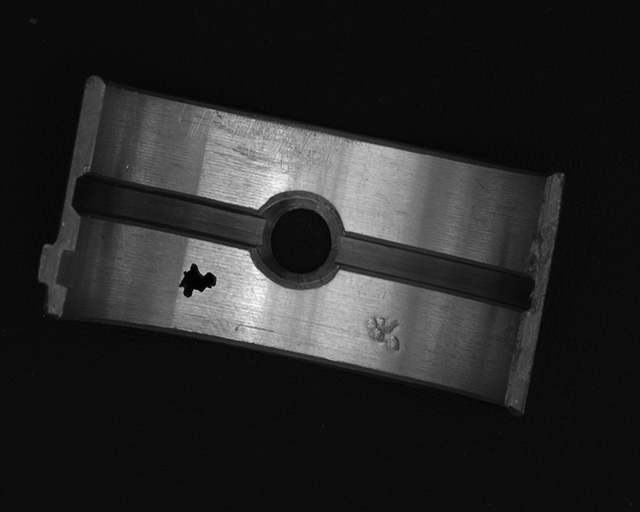blot: (176, 263, 218, 298)
bruise: (363, 315, 402, 354)
gap: (335, 230, 534, 312), (72, 174, 268, 247)
hole: (253, 192, 344, 283)
scratch: (176, 101, 353, 181)
